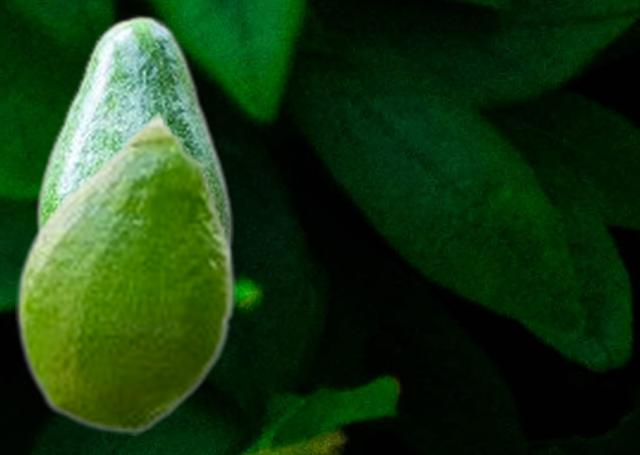avocado: (15, 109, 235, 434), (34, 14, 232, 245)
